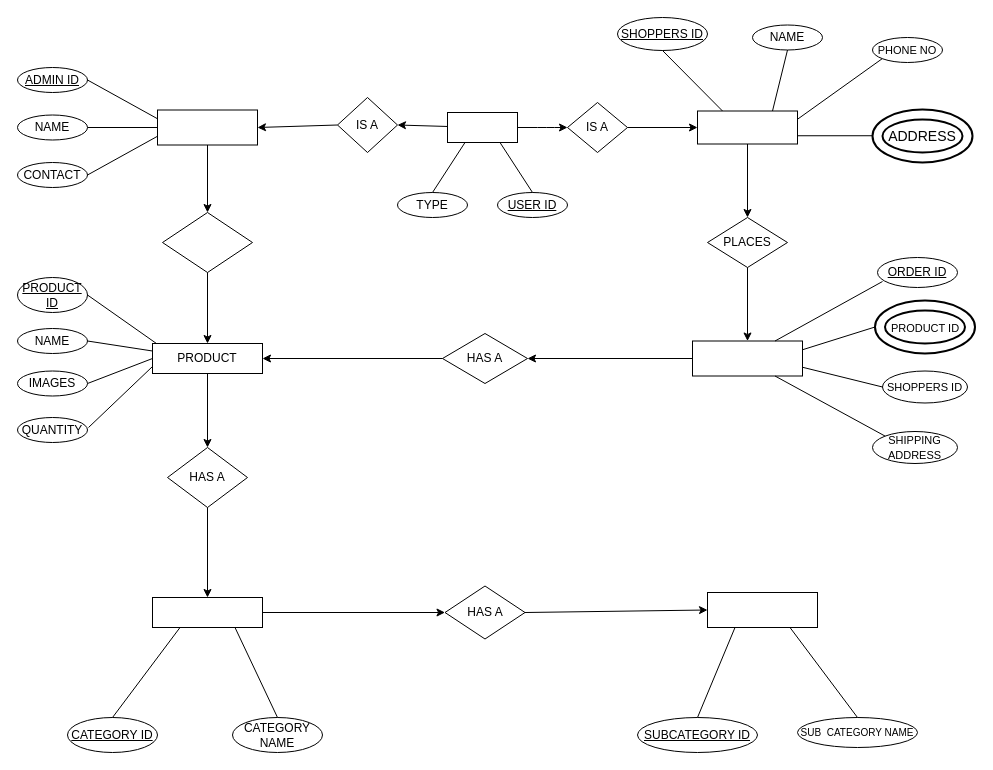
The diagram is 993 pixels wide and 770 high, and some of its shapes have lost their labels. Each missing label, with the box of its shape:
ADMIN: (156, 109, 258, 145)
CATEGORY: (152, 596, 262, 628)
MANAGES: (162, 212, 252, 272)
ORDER: (692, 340, 802, 376)
SHOPPER: (696, 110, 798, 144)
SUB-CATEGORY: (706, 592, 818, 628)
USER: (446, 112, 518, 142)
